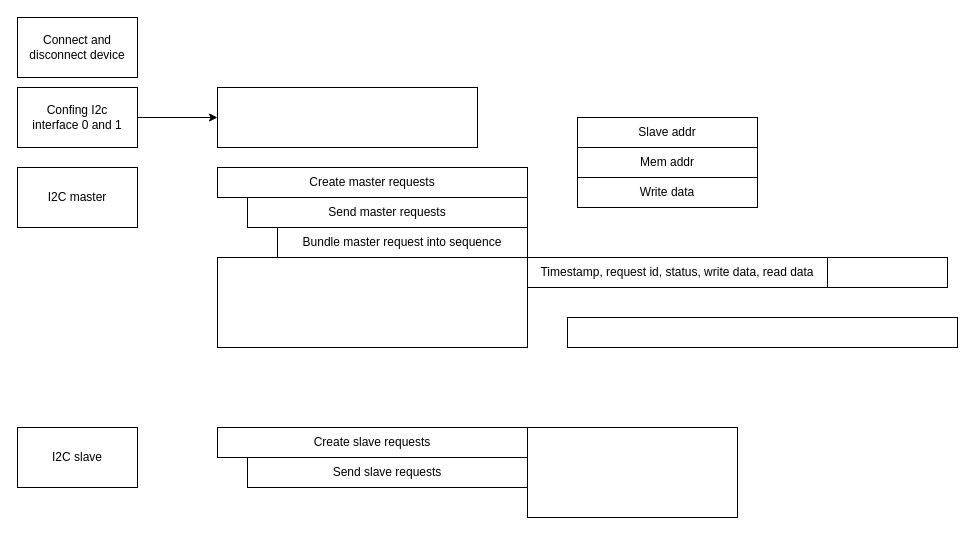
The diagram is 975 pixels wide and 535 high, and some of its shapes have lost their labels. The centre of each missing label's shape, as x and y in pixels:
Clock rate Pull ups Slave address Slave mem address witdth: (x=347, y=117)
hex, dec, asci visualization: (x=887, y=272)
Timestamp, request id, status, write data, read, size: (x=762, y=332)
Visualze request and access: (x=632, y=472)
Visualze request and response: (x=372, y=302)
